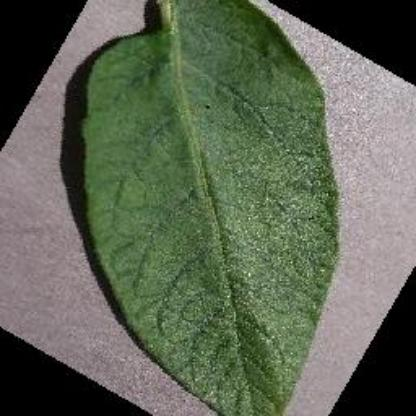Healthy-plant: (70, 2, 342, 416)
